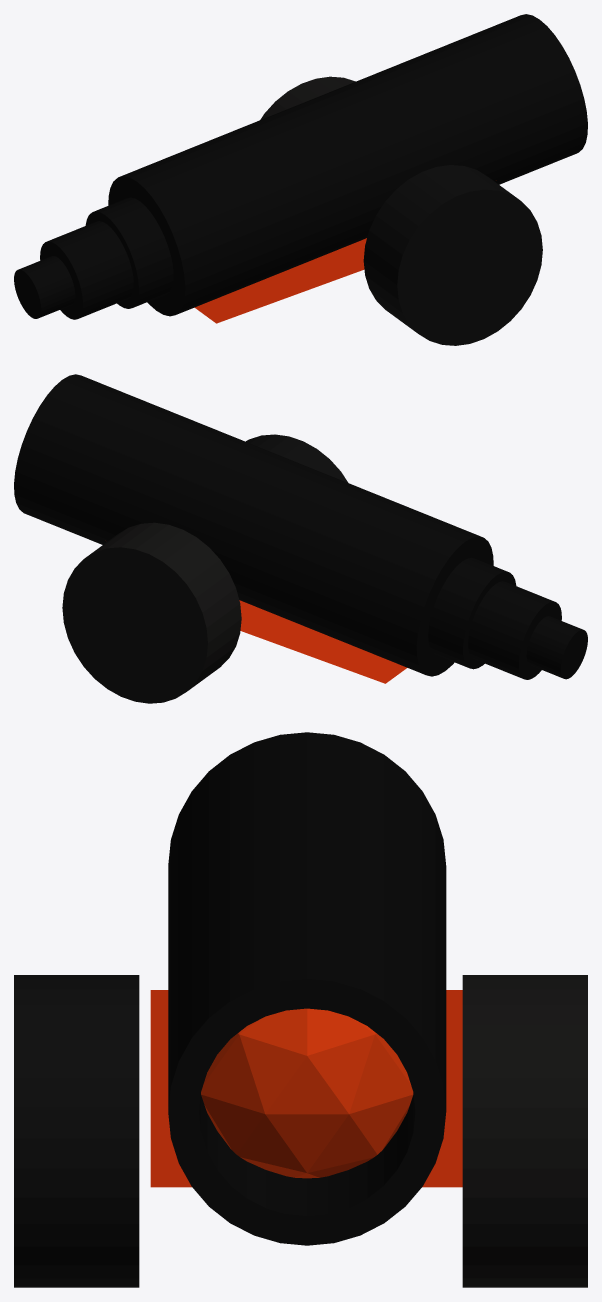
Rendered from Cannon.obj.
3 views of the same model, one above another, from view 1: azimuth 30°, elevation 25°; view 2: azimuth 150°, elevation 25°; view 3: azimuth 270°, elevation 25° (orthographic). The views are drawn at different scales.
Parts seen in each view (by area): view 1: Cylinder.002, Cylinder, Plane, Cylinder.001; view 2: Cylinder.002, Cylinder.001, Plane, Cylinder; view 3: Cylinder.002, Cylinder, Cylinder.001, Icosphere, Plane.
Boxes of the visible parts, x1,y1,x2,y2 form: Cylinder.002: [14, 14, 587, 319]; Cylinder: [363, 165, 542, 345]; Plane: [194, 238, 366, 323]; Cylinder.001: [260, 76, 355, 119]; Cylinder.002: [14, 374, 587, 679]; Cylinder.001: [62, 522, 241, 703]; Plane: [239, 600, 407, 683]; Cylinder: [246, 434, 348, 482]; Cylinder.002: [168, 732, 446, 1245]; Cylinder: [14, 975, 139, 1287]; Cylinder.001: [462, 975, 587, 1287]; Icosphere: [201, 1008, 413, 1178]; Plane: [150, 990, 462, 1187].
Size of the model in its own units: 3.67 by 1.51 by 1.83.
